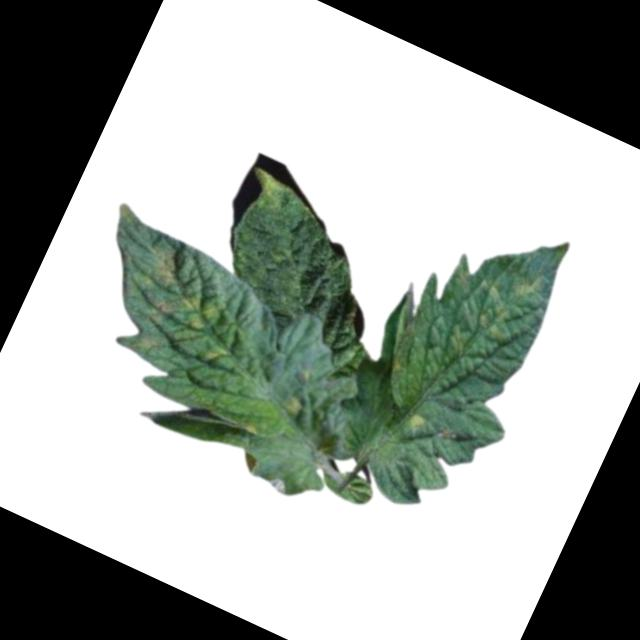Leaf_Mold: (161, 284, 259, 377), (244, 164, 309, 218), (509, 265, 552, 309), (405, 408, 432, 436)
